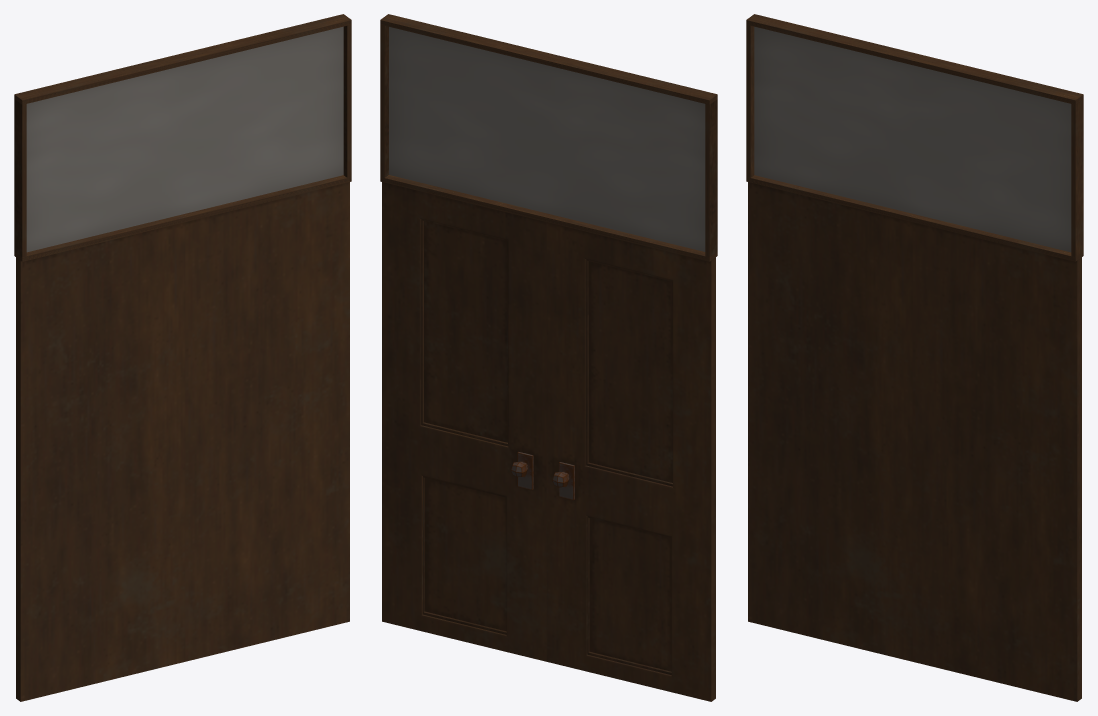
File: Porta_Entrada_Bar.fbx
3 renders of one model, left to right at view 1: azimuth 30°, elevation 25°; view 2: azimuth 150°, elevation 25°; view 3: azimuth 330°, elevation 25°, orthographic.
Visible parts, largest first — view 1: Porta_Principal; view 2: Porta_Principal; view 3: Porta_Principal.
Part boxes in pixels (x1,y1,x2,y2): Porta_Principal: (14,14,351,701); Porta_Principal: (380,14,717,701); Porta_Principal: (746,14,1083,701).
Bounding box in the file's own units: 164 × 286 × 14.44.
